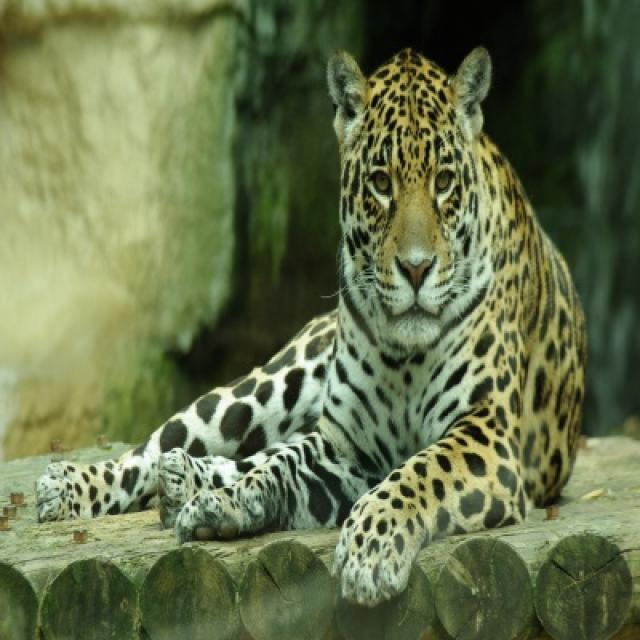Jaguar: (40, 46, 587, 611)
